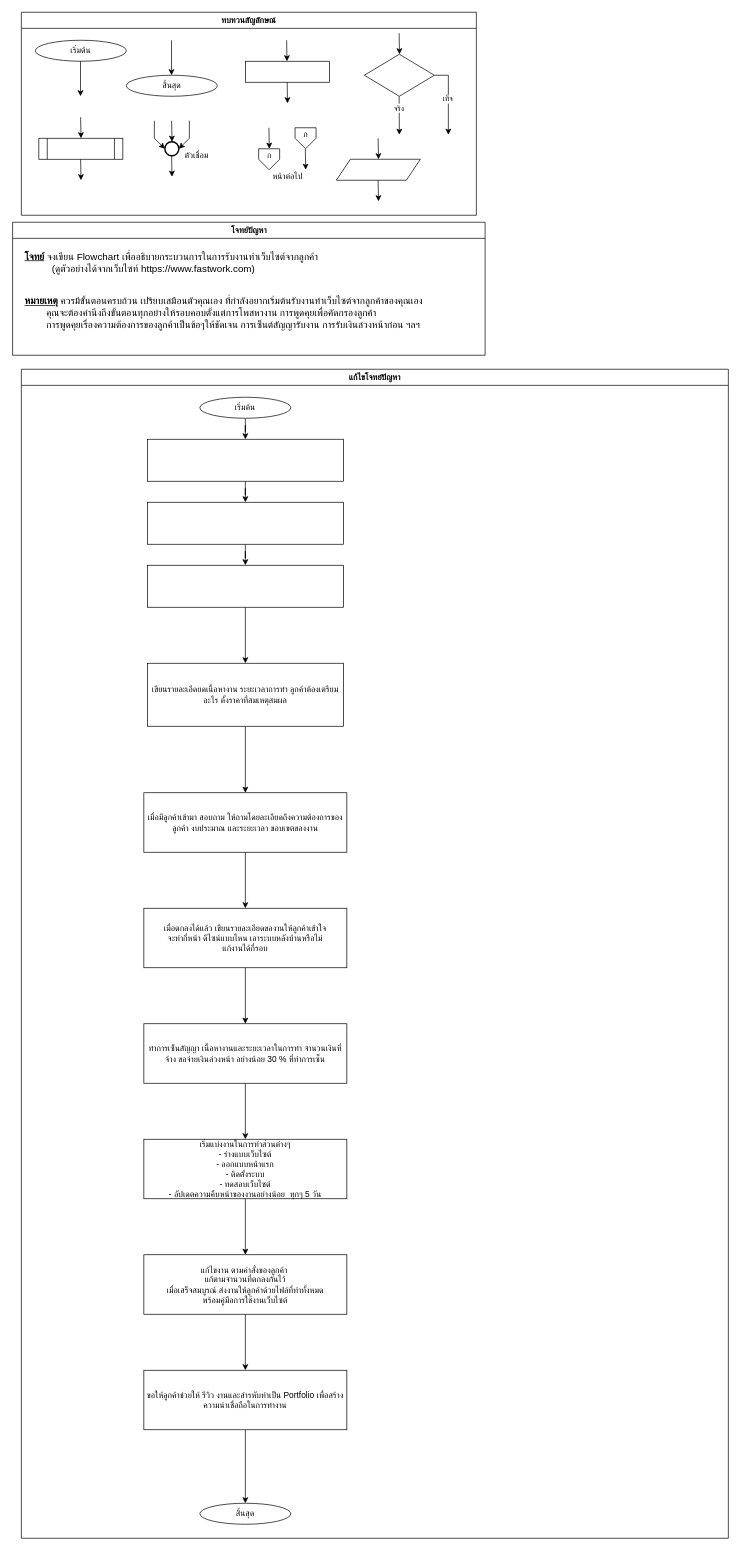
This 741x1551 diagram has some shape labels left out. Here are the shapes that lost their labels. From the top down, the centre of each, then its label:
At point 287,71: "กระบวนการ".
At point 399,75: "ประโยคเงื่อนไข".
At point 80,148: "ฟังก์ชัน/โมดูล".
At point 378,169: "แสดงผล/รับค่า".
At point 245,460: "สำรวจตัวเองว่ามีความสามารถทำได้ขนาดไหน".
At point 245,523: "ใส่ประวัติการทำงานหรือ ผลงาน Portfolio เพื่อสร้างคาวมน่าเชื่อถือ".
At point 245,586: "ตั้งโพสรับบริการทำเว็บไซต์ตามที่ต่างๆ".
